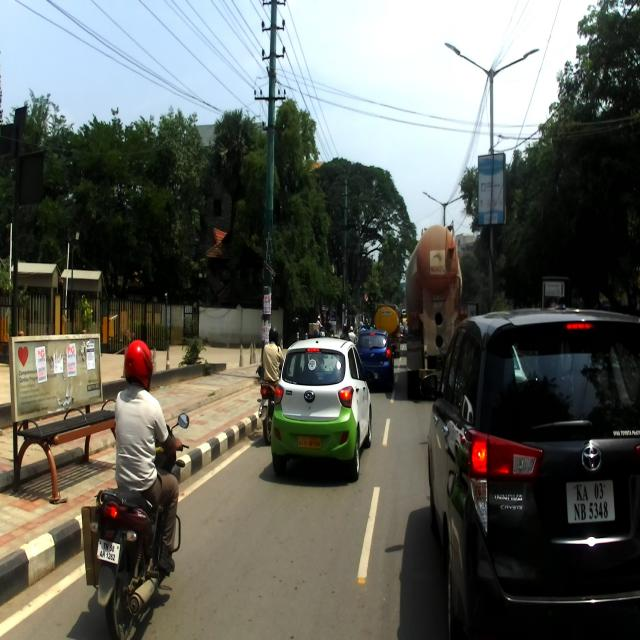car: (418, 306, 640, 639), (270, 336, 376, 482)
motorcycle: (89, 412, 190, 640)
